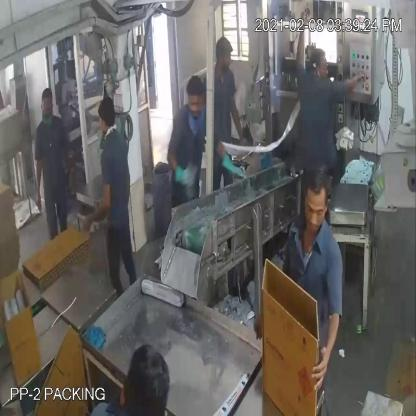glove: (167, 139, 202, 190), (222, 142, 252, 183)
no_glove: (308, 288, 347, 391), (72, 176, 116, 247), (339, 63, 375, 100), (297, 14, 306, 70)
